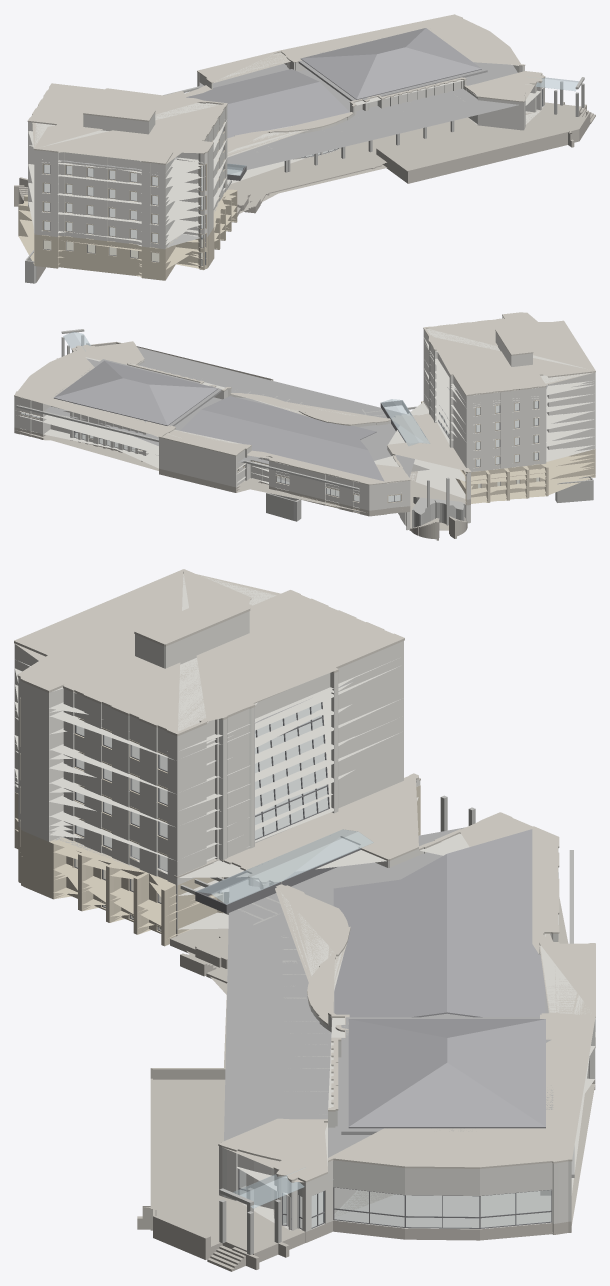
The model's file is tki_misafirhane_exterior.fbx.
The picture shows the model from 3 angles, top to bottom: view 1: azimuth 30°, elevation 25°; view 2: azimuth 150°, elevation 25°; view 3: azimuth 270°, elevation 25°; orthographic projection. The views are drawn at different scales.
Visible parts, largest first — view 1: A_WALL_UPPER, A_PARAPET_COPING, B_ROOF_SLAB_01, B_ROOF_HALL, B_ROOF_WEST, TERRACE_000_00, B_COPING_H560_00, B_PLINTH, A_WALL_GF, A_PLINTH, A_PARAPET, B_WALL_H460_04 (+14 smaller); view 2: A_WALL_UPPER, A_PARAPET_COPING, B_ROOF_WEST, B_WALL_H560_00, B_ROOF_SLAB_01, B_ROOF_HALL, B_COPING_H560_00, B_WALL_H460_01, B_PLINTH, B_COPING_H480, A_WALL_GF, A_PARAPET (+15 smaller); view 3: A_WALL_UPPER, B_ROOF_WEST, A_PARAPET_COPING, B_ROOF_SLAB_01, B_ROOF_HALL, B_WALL_H560_00, B_COPING_H560_00, TERRACE_000_00, A_PARAPET, B_COPING_H480, A_WALL_GF, B_PLINTH (+19 smaller).
Part boxes in pixels (<box>): A_WALL_UPPER: <box>28,114,227,249</box>; A_PARAPET_COPING: <box>27,83,227,164</box>; B_ROOF_SLAB_01: <box>199,62,518,173</box>; B_ROOF_HALL: <box>300,28,481,99</box>; B_ROOF_WEST: <box>186,69,349,138</box>; TERRACE_000_00: <box>373,102,590,183</box>; B_COPING_H560_00: <box>197,14,525,83</box>; B_PLINTH: <box>230,110,539,214</box>; A_WALL_GF: <box>18,189,237,267</box>; A_PLINTH: <box>18,210,237,280</box>; A_PARAPET: <box>28,103,227,173</box>; B_WALL_H460_04: <box>464,78,544,130</box>; A_WALL_UPPER: <box>423,337,595,472</box>; A_PARAPET_COPING: <box>423,312,595,395</box>; B_ROOF_WEST: <box>180,396,384,481</box>; B_WALL_H560_00: <box>14,396,251,487</box>; B_ROOF_SLAB_01: <box>45,347,414,477</box>; B_ROOF_HALL: <box>54,360,218,425</box>; B_COPING_H560_00: <box>14,349,251,456</box>; B_WALL_H460_01: <box>250,456,410,510</box>; B_PLINTH: <box>14,427,470,516</box>; B_COPING_H480: <box>387,401,471,472</box>; A_WALL_GF: <box>421,401,595,493</box>; A_PARAPET: <box>423,316,595,403</box>; A_WALL_UPPER: <box>14,656,403,883</box>; B_ROOF_WEST: <box>333,829,545,1017</box>; A_PARAPET_COPING: <box>14,569,404,736</box>; B_ROOF_SLAB_01: <box>224,827,548,1180</box>; B_ROOF_HALL: <box>348,1019,545,1128</box>; B_WALL_H560_00: <box>328,945,595,1229</box>; B_COPING_H560_00: <box>328,942,595,1168</box>; TERRACE_000_00: <box>137,1078,305,1262</box>; A_PARAPET: <box>14,574,403,751</box>; B_COPING_H480: <box>174,773,418,883</box>; A_WALL_GF: <box>14,785,420,923</box>; B_PLINTH: <box>176,835,595,1242</box>.
Bounding box in the file's own units: 96.08 × 24.25 × 47.42.
